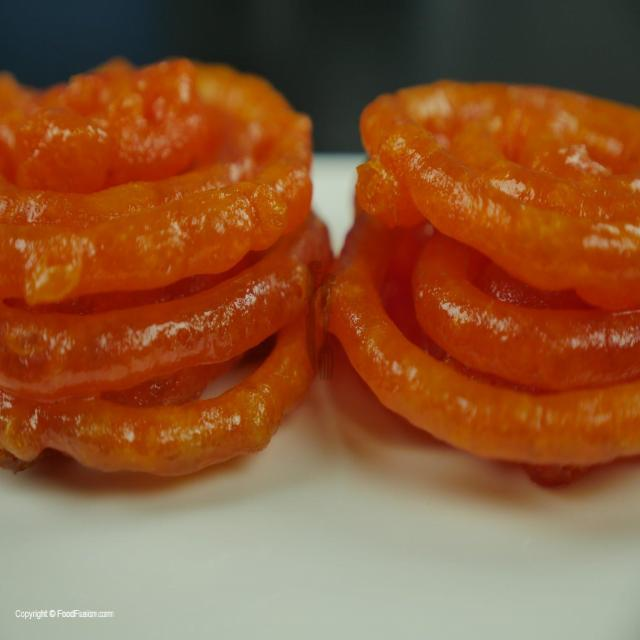jalebi: (1, 55, 322, 473), (347, 63, 640, 483)
